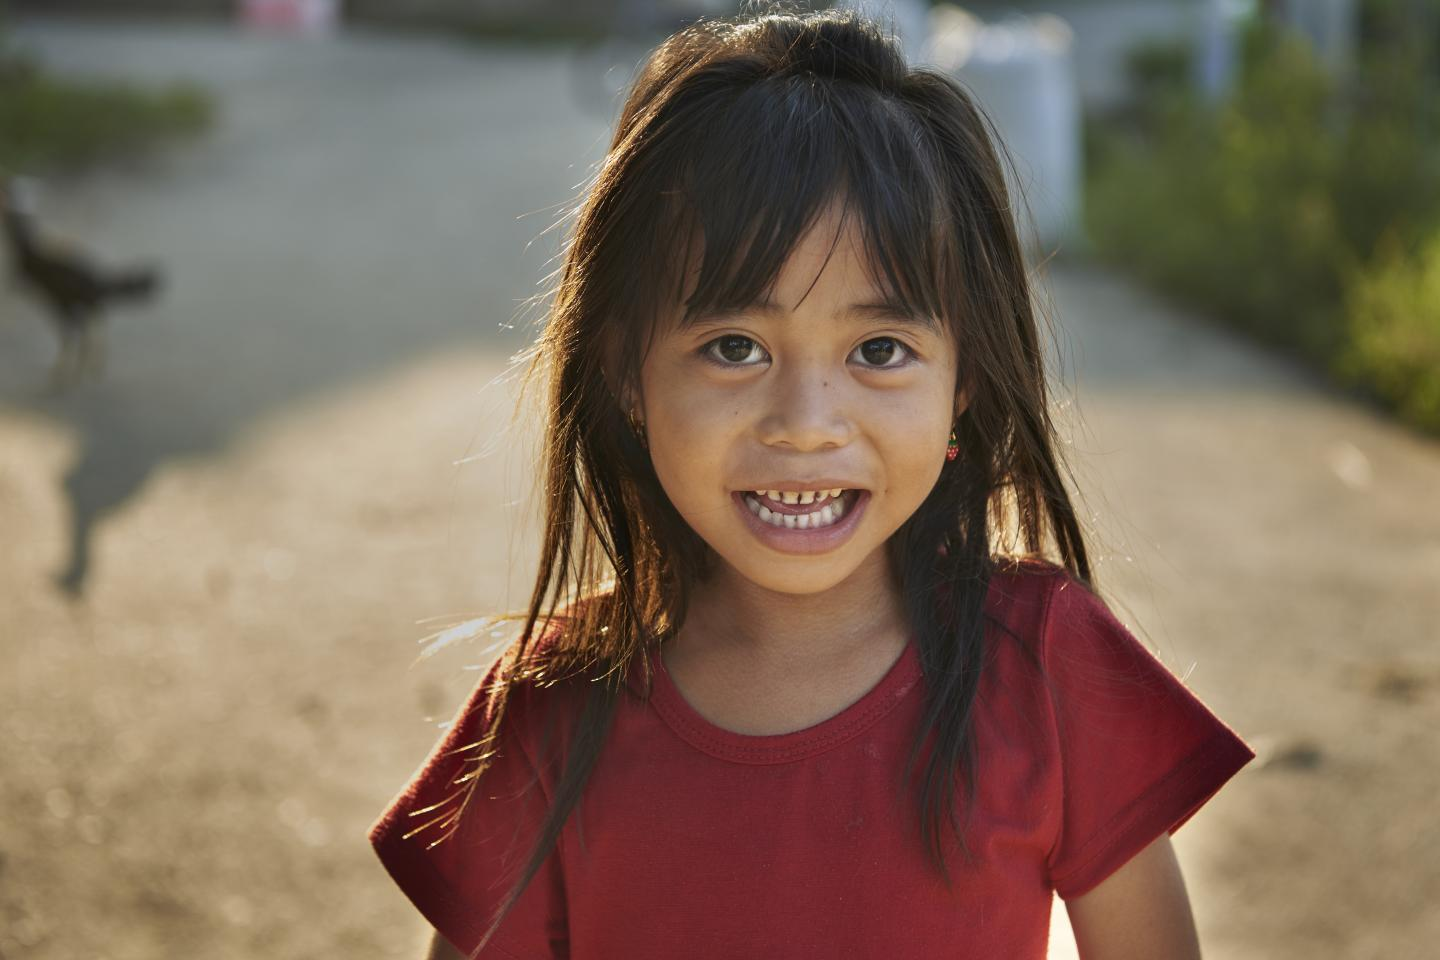human: (389, 1, 1245, 960)
